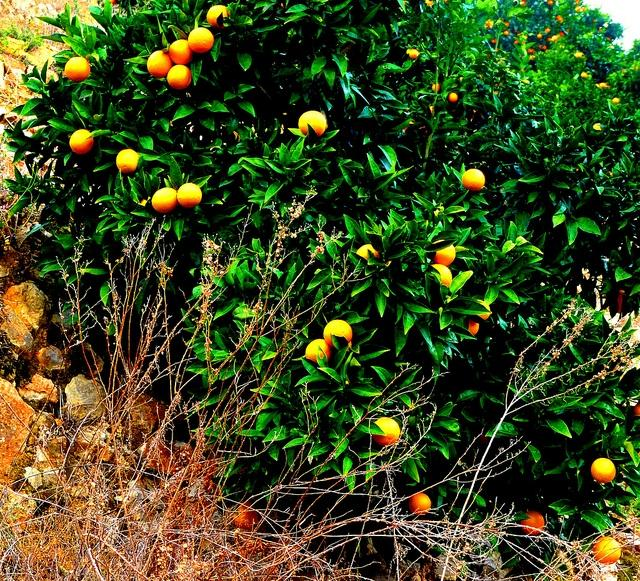orange: (323, 320, 352, 348), (593, 537, 621, 565), (372, 418, 400, 446), (232, 500, 258, 530), (298, 111, 326, 136), (64, 56, 90, 82), (188, 27, 214, 53), (168, 38, 194, 64), (147, 51, 172, 78), (152, 188, 177, 214), (590, 458, 616, 483), (305, 339, 332, 363), (177, 183, 202, 208), (69, 129, 94, 154), (432, 240, 456, 266), (116, 148, 140, 174), (167, 65, 191, 90), (520, 511, 544, 535), (204, 6, 228, 29), (462, 169, 485, 192), (432, 264, 452, 288), (356, 244, 379, 260), (477, 300, 490, 320), (468, 318, 479, 336), (404, 121, 414, 132), (448, 92, 458, 102), (409, 49, 419, 59), (432, 83, 440, 92), (486, 20, 494, 28), (593, 123, 601, 130), (574, 52, 582, 58), (612, 98, 620, 104), (425, 0, 433, 6), (582, 72, 588, 78), (552, 35, 558, 41), (429, 106, 433, 114), (600, 82, 606, 87), (520, 2, 526, 6), (528, 49, 534, 53), (576, 6, 580, 11), (530, 55, 534, 60), (608, 171, 612, 176), (596, 84, 600, 88), (493, 91, 498, 94), (538, 45, 542, 48), (548, 38, 552, 41), (598, 28, 602, 31), (607, 38, 610, 41), (474, 110, 476, 114), (622, 70, 626, 72), (522, 68, 524, 71), (460, 77, 462, 80)
